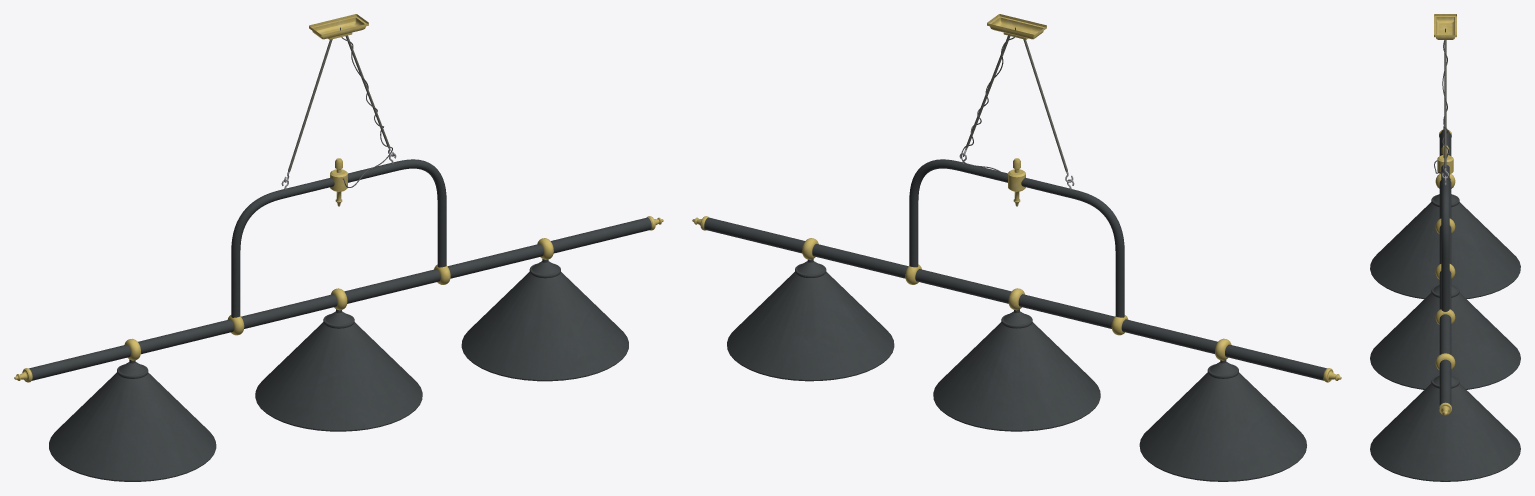
Rendered from SM_Light_04.fbx.
The picture shows the model from 3 angles, left to right: view 1: azimuth 30°, elevation 25°; view 2: azimuth 150°, elevation 25°; view 3: azimuth 270°, elevation 25°; orthographic projection. The views are drawn at different scales.
Parts seen in each view (by area): view 1: SM_Light_04_LOD0; view 2: SM_Light_04_LOD0; view 3: SM_Light_04_LOD0.
Boxes of the visible parts, x1,y1,x2,y2 form: SM_Light_04_LOD0: (14, 14, 663, 481); SM_Light_04_LOD0: (692, 14, 1341, 481); SM_Light_04_LOD0: (1370, 14, 1520, 481).
Size of the model in its own units: 196 by 43.91 by 108.
